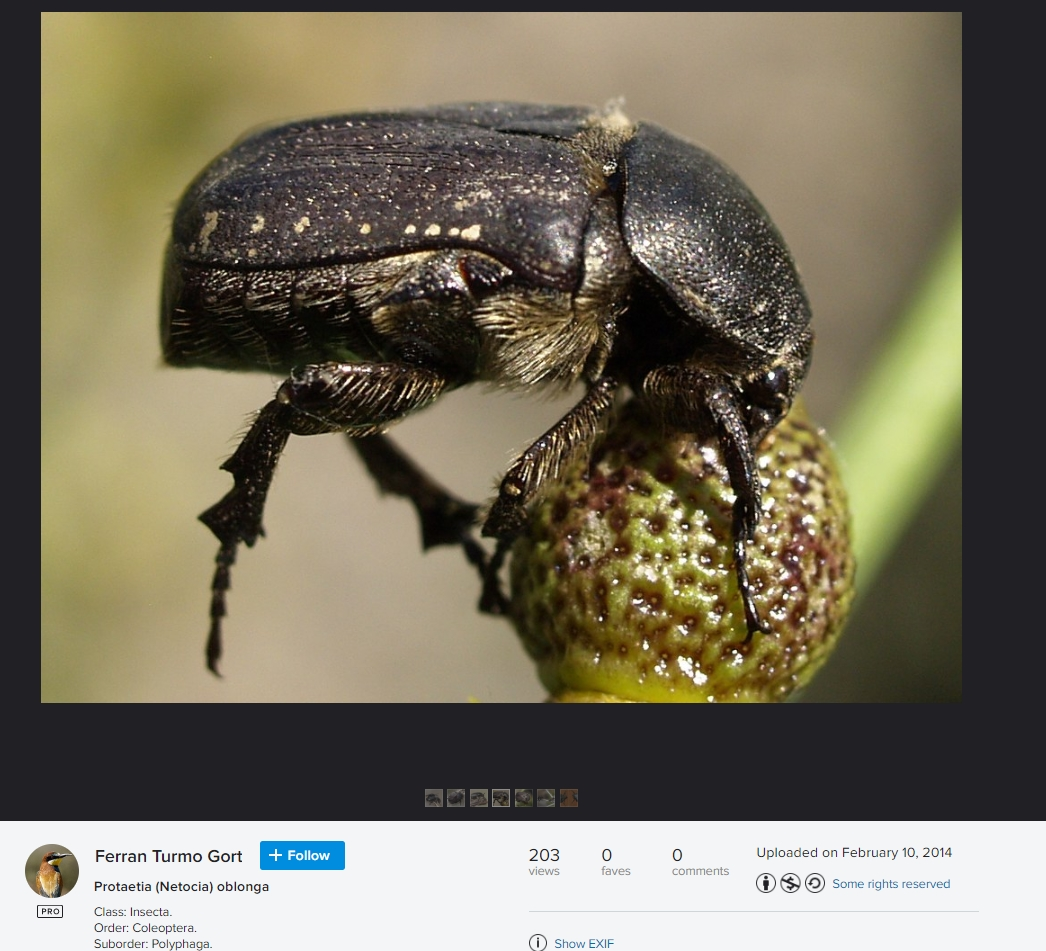Protaetia_oblonga: (146, 81, 827, 677)
